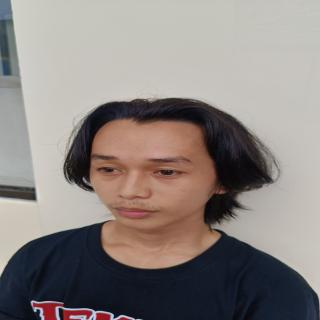Netral: (85, 116, 226, 233)
